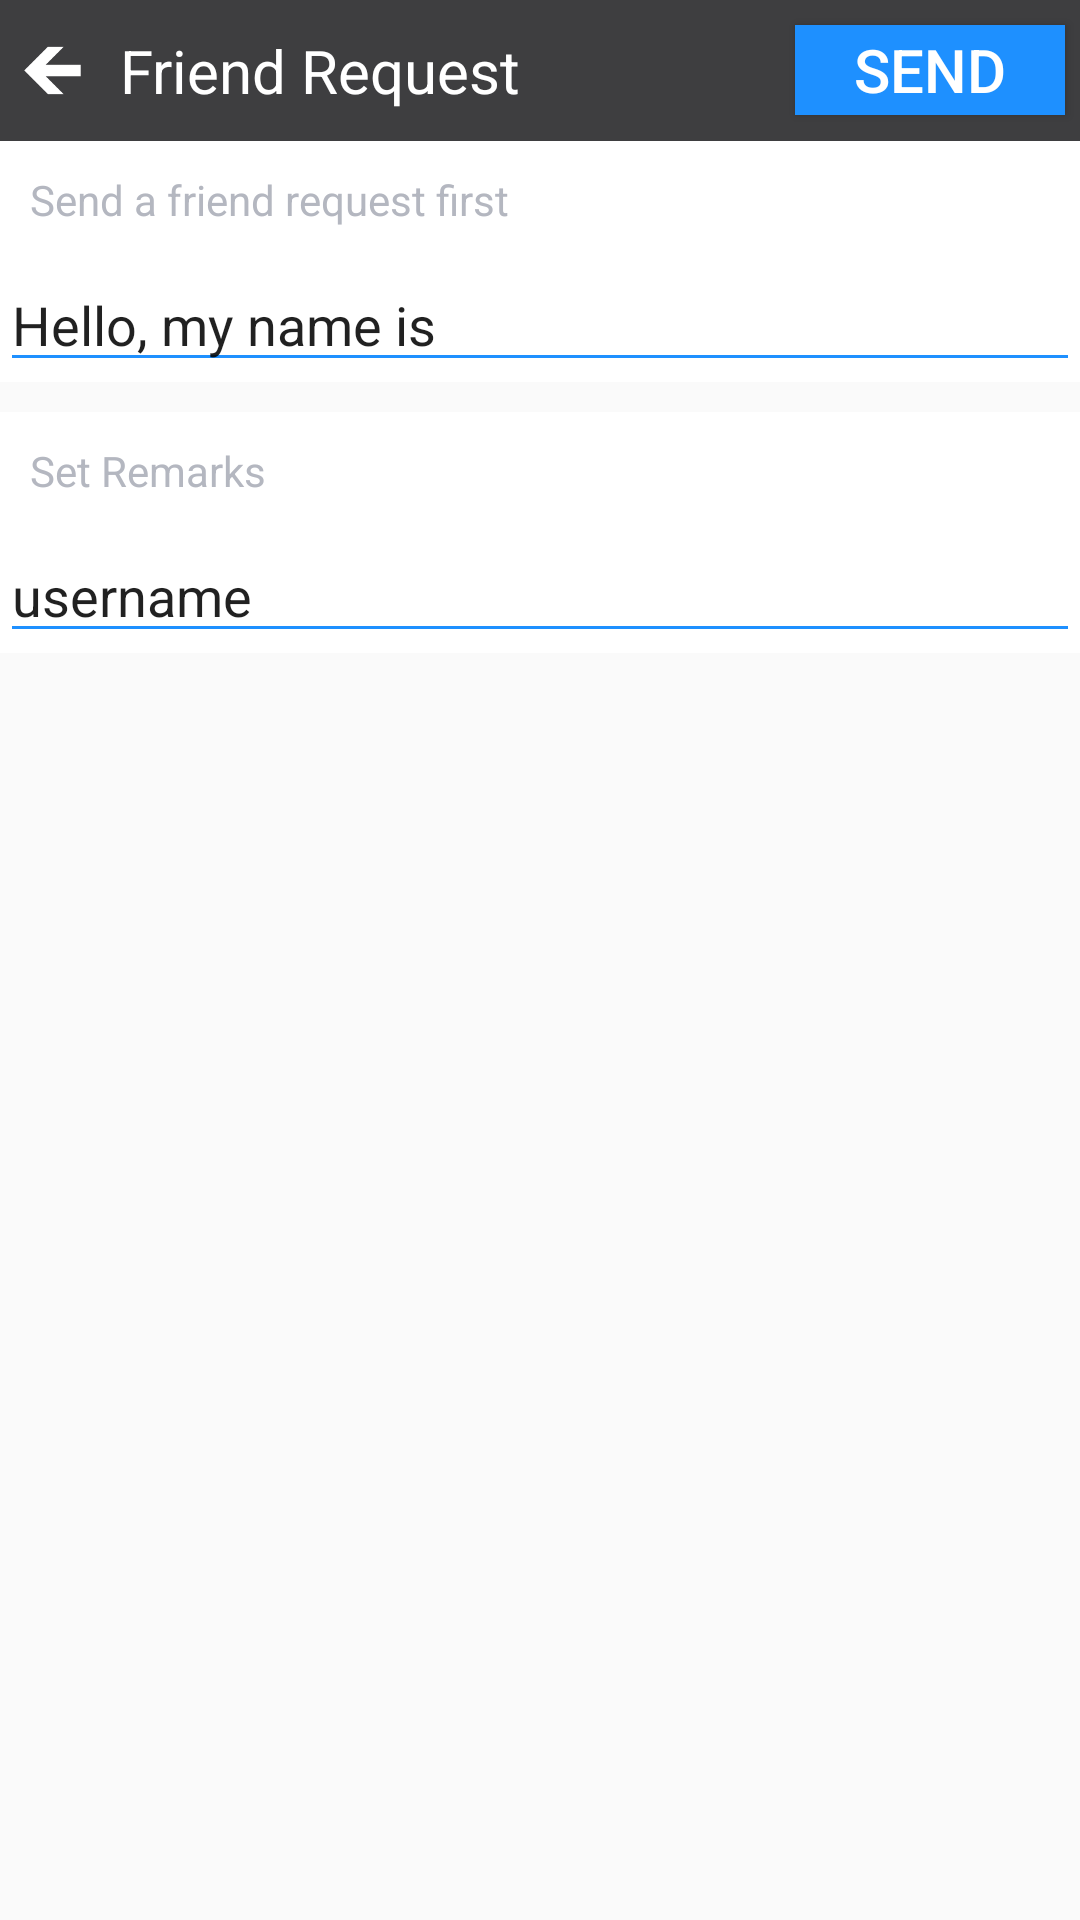

Icons on this 1080px×1920px Android screen, each with the point to tap as point (x, y):
back: point (52, 70)
